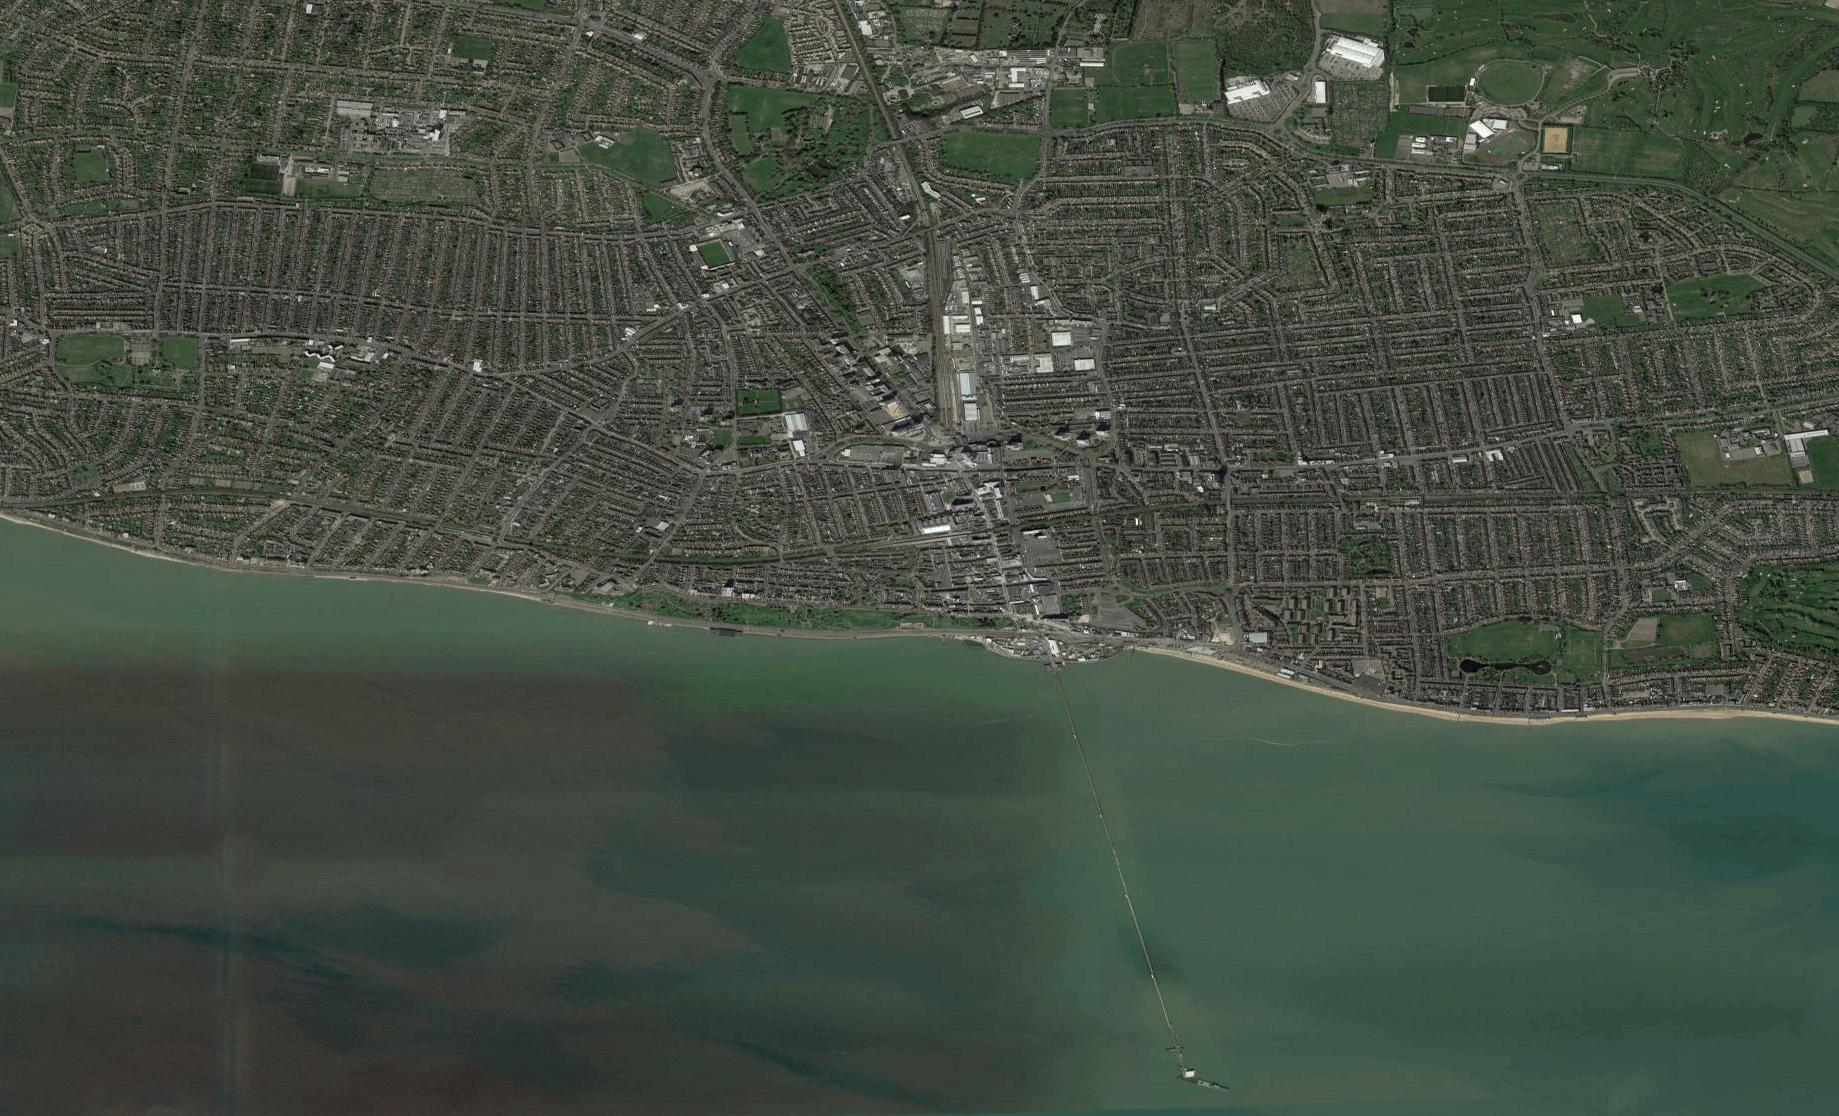harbor: (965, 628, 1143, 672)
industrial: (917, 38, 1094, 122), (749, 406, 818, 467)
train_station: (912, 519, 964, 541)
